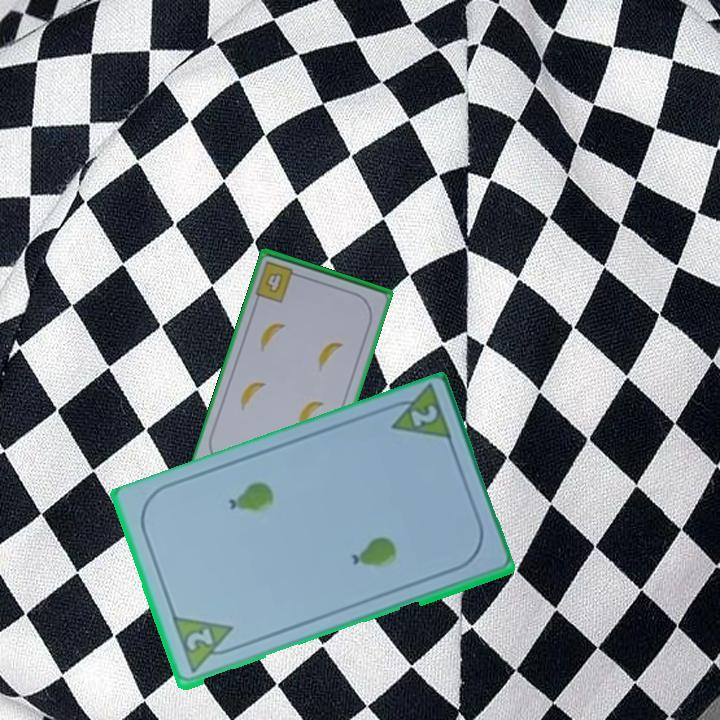2p: (182, 625, 216, 654), (406, 402, 441, 430)
4b: (252, 258, 304, 305)
